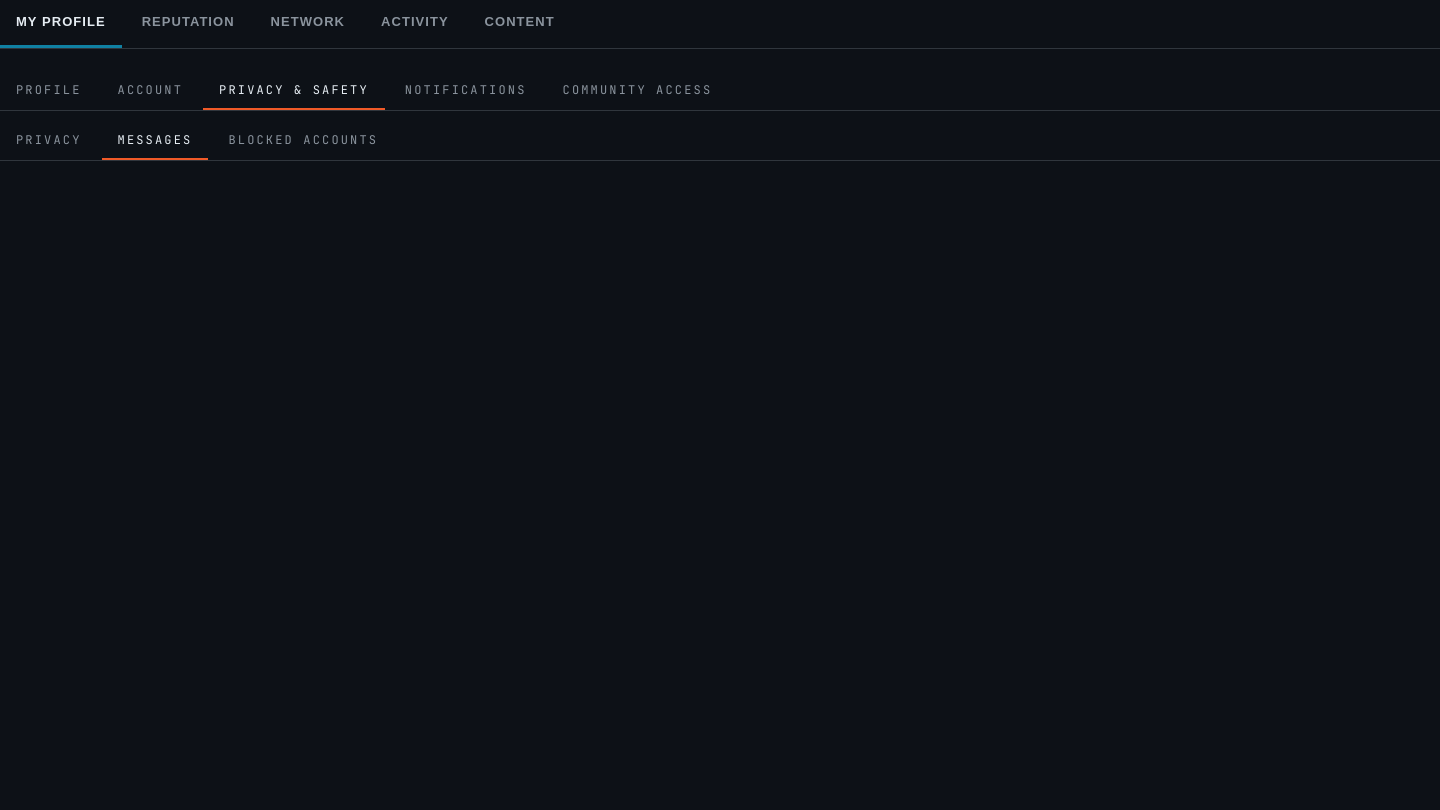
Test: a dirty form survives every top-level group move › dirty Messages → messages is guarded
Click the tab "Reputation". click: click(188, 24)
box: x1=126 y1=0 x2=251 y2=48
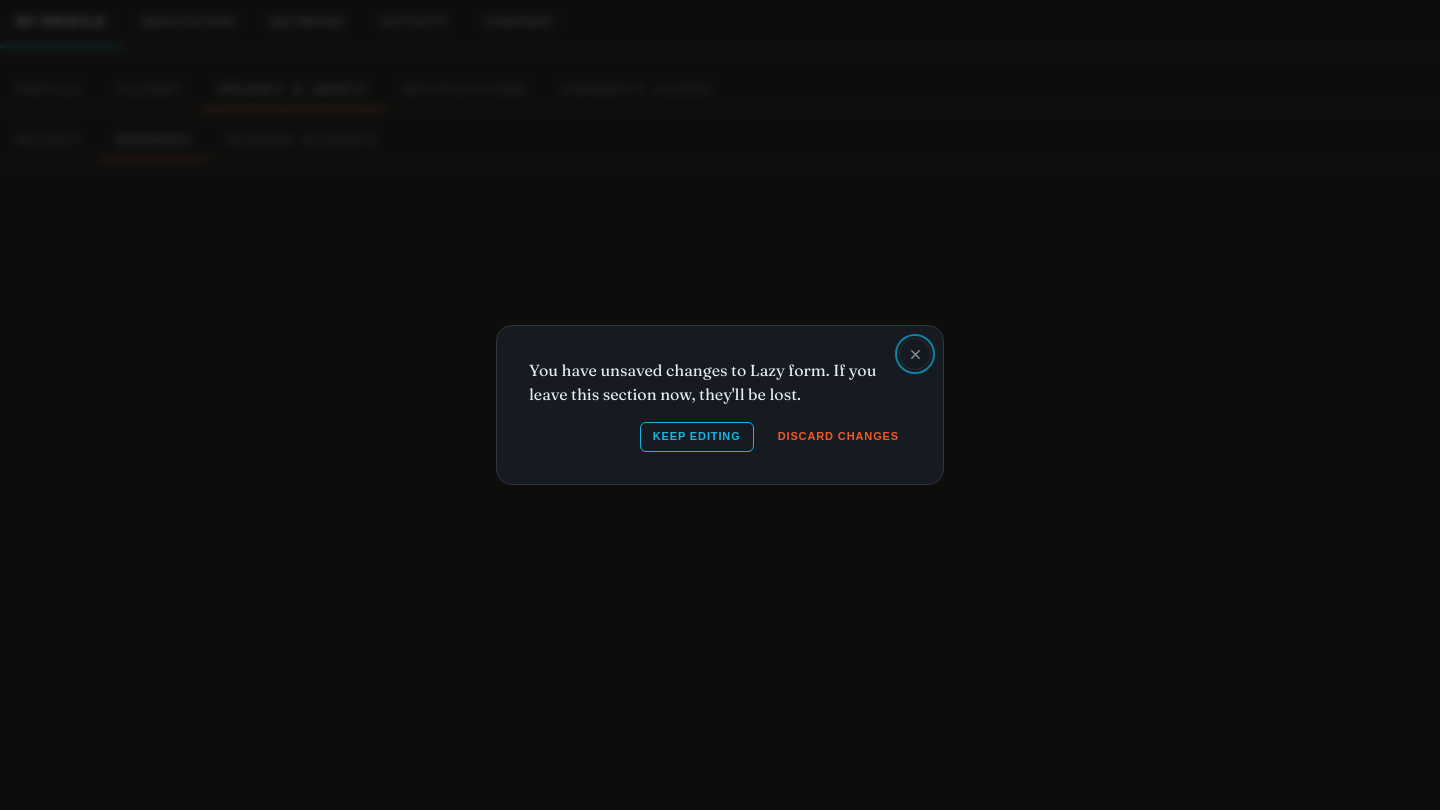
Expected: the dialog is shown
